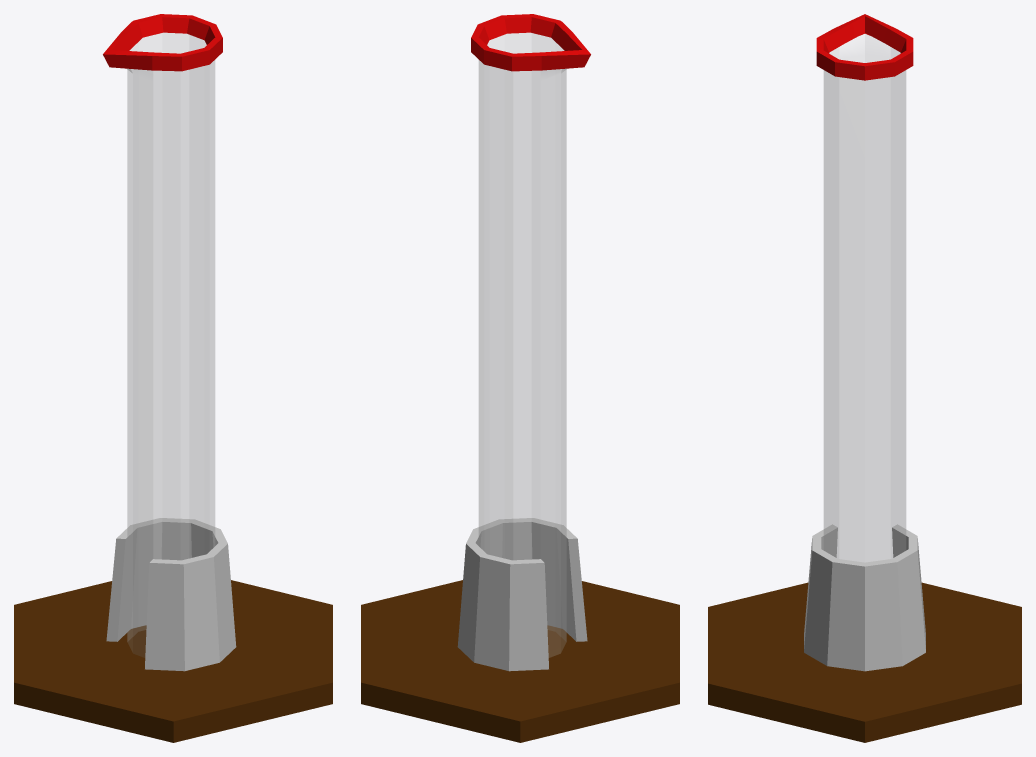
The model's file is Medidor_01.fbx.
3 views of the same model, side by side, from view 1: azimuth 30°, elevation 25°; view 2: azimuth 150°, elevation 25°; view 3: azimuth 270°, elevation 25° (orthographic).
Parts seen in each view (by area): view 1: pCylinder25; view 2: pCylinder25; view 3: pCylinder25.
Part boxes in pixels (box(x1,y1,x2,y2)): pCylinder25: box(14, 14, 332, 742); pCylinder25: box(361, 14, 679, 742); pCylinder25: box(708, 14, 1021, 742).
Bounding box in the file's own units: 0.9383 × 1.77 × 0.8126.
